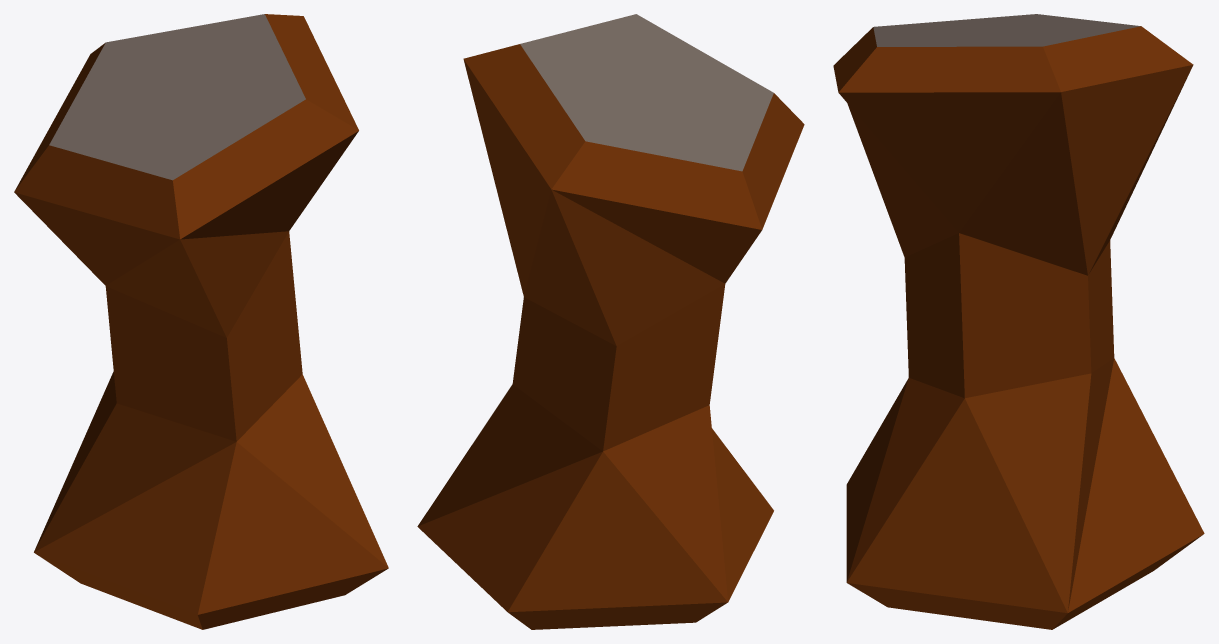
The model's file is LP_PostApoc_SodaCan_Crushed.fbx.
3 views of the same model, side by side, from view 1: azimuth 30°, elevation 25°; view 2: azimuth 150°, elevation 25°; view 3: azimuth 270°, elevation 25° (orthographic). The views are drawn at different scales.
Visible parts, largest first — view 1: SodaCan_Crushed; view 2: SodaCan_Crushed; view 3: SodaCan_Crushed.
Part boxes in pixels (x1=…): SodaCan_Crushed: x1=14, y1=14, x2=388, y2=629; SodaCan_Crushed: x1=417, y1=14, x2=804, y2=629; SodaCan_Crushed: x1=833, y1=14, x2=1204, y2=629.
Size of the model in its own units: 10.78 by 16.21 by 9.79.
